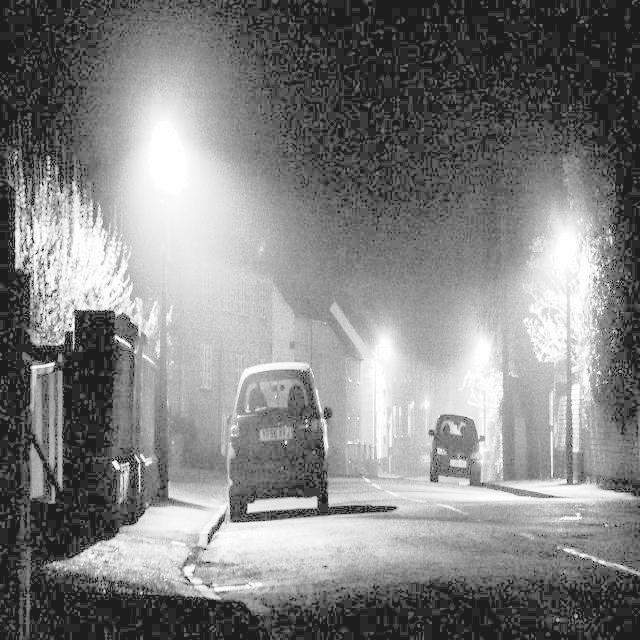Car: (221, 357, 335, 525), (428, 398, 485, 508)
